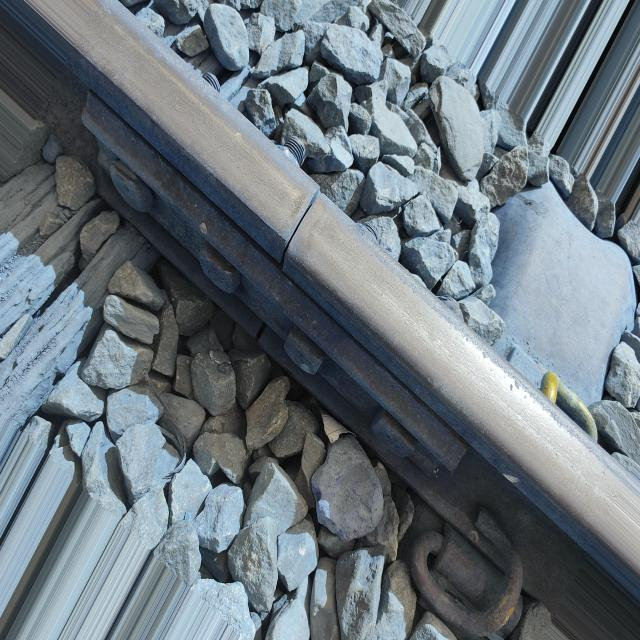Good Fasteners: (406, 508, 523, 637), (494, 340, 597, 442)
Good Joint: (89, 95, 472, 476)
